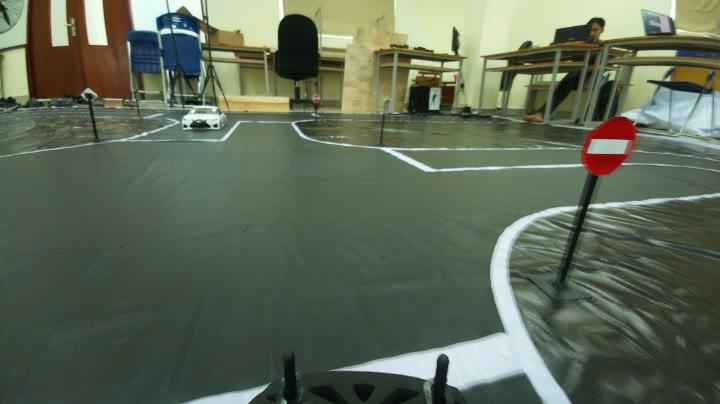car: (176, 100, 228, 136)
no_entry: (575, 109, 637, 178)
